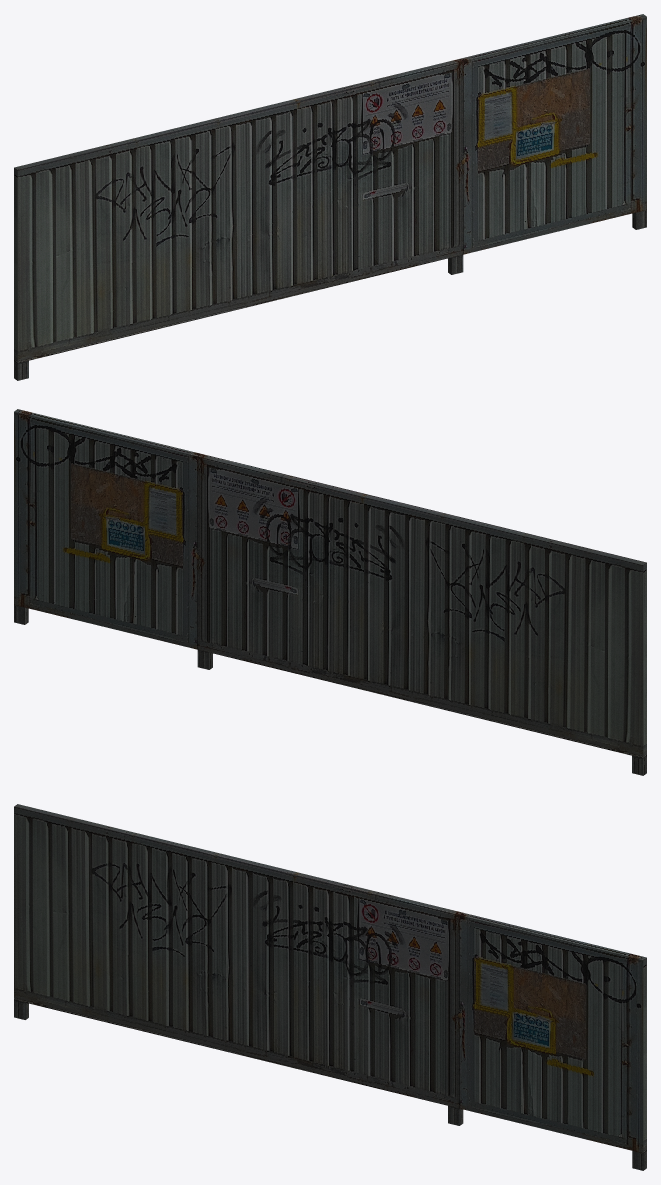
File: gate_1.glb
3 renders of one model, top to bottom at view 1: azimuth 30°, elevation 25°; view 2: azimuth 150°, elevation 25°; view 3: azimuth 330°, elevation 25°, orthographic.
Visible parts, largest first — view 1: gate_1; view 2: gate_1; view 3: gate_1.
Part boxes in pixels (x1,y1,x2,y2): gate_1: [14, 14, 646, 380]; gate_1: [14, 409, 646, 775]; gate_1: [14, 804, 646, 1170].
Size of the model in its own units: 5 by 1.6 by 0.05.
Materials: 1 (1 with a texture image).
